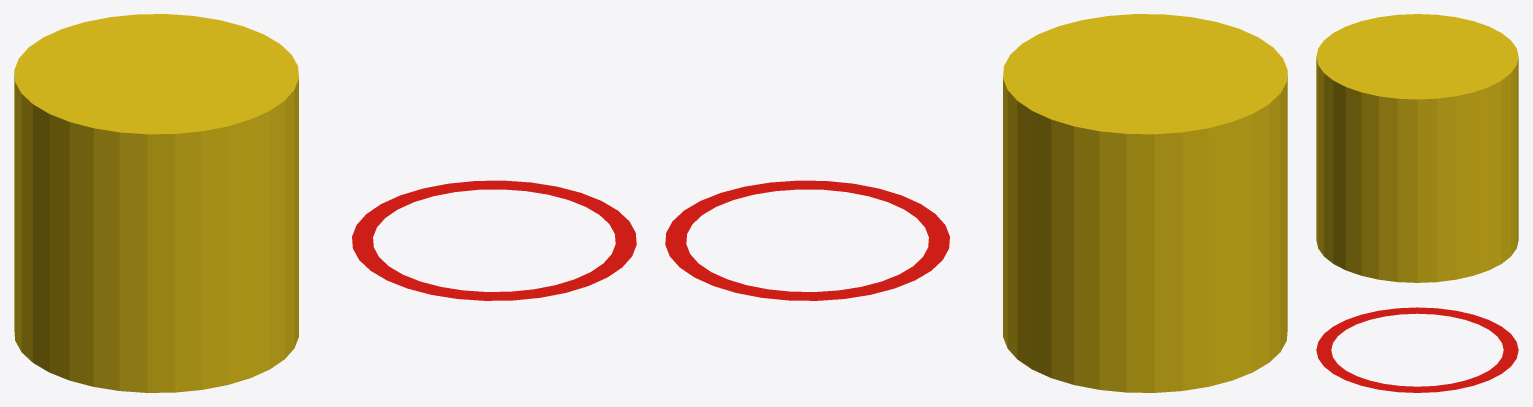
Rendered from basebuilding.fbx.
3 views of the same model, side by side, from view 1: azimuth 30°, elevation 25°; view 2: azimuth 150°, elevation 25°; view 3: azimuth 270°, elevation 25° (orthographic). The views are drawn at different scales.
Visible parts, largest first — view 1: BaseBuilding, BaseCircle; view 2: BaseBuilding, BaseCircle; view 3: BaseBuilding, BaseCircle.
Part boxes in pixels (x1,y1,x2,y2): BaseBuilding: [14, 14, 298, 392]; BaseCircle: [352, 180, 636, 300]; BaseBuilding: [1003, 14, 1287, 392]; BaseCircle: [665, 180, 949, 300]; BaseBuilding: [1316, 14, 1518, 282]; BaseCircle: [1316, 307, 1518, 392].
Size of the model in its own units: 4.73 by 2 by 2.
